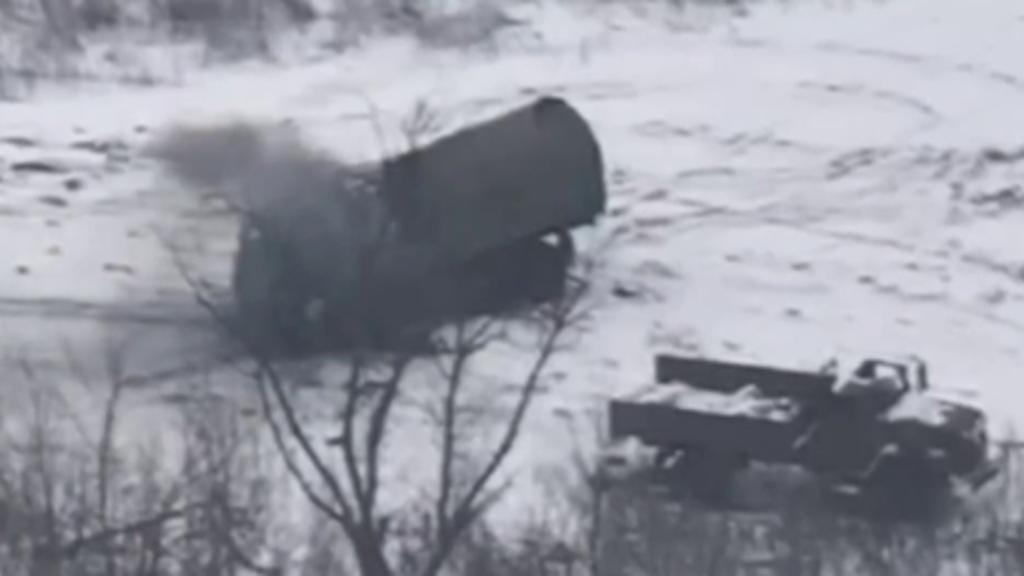TRUCK: (230, 88, 608, 366), (604, 334, 996, 522)
